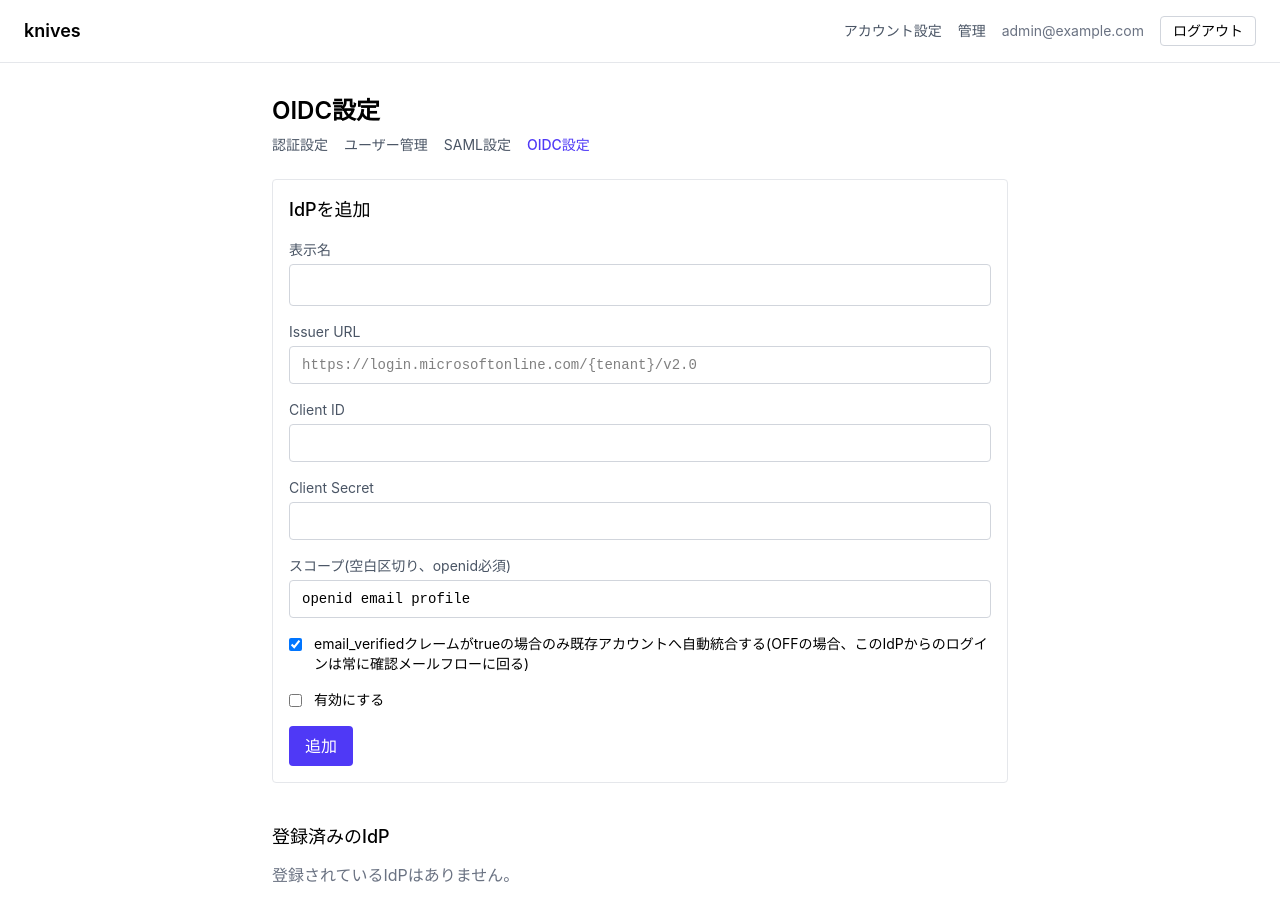
AdminOIDCConfigsPage › submits the add form as a POST including the client secret
Expected: the heading "IdPを追加" is shown, [289,199,371,220]
Step 1. Type "テストIdP" into the field labelled "表示名" → (640, 285), box [289,264,991,306]
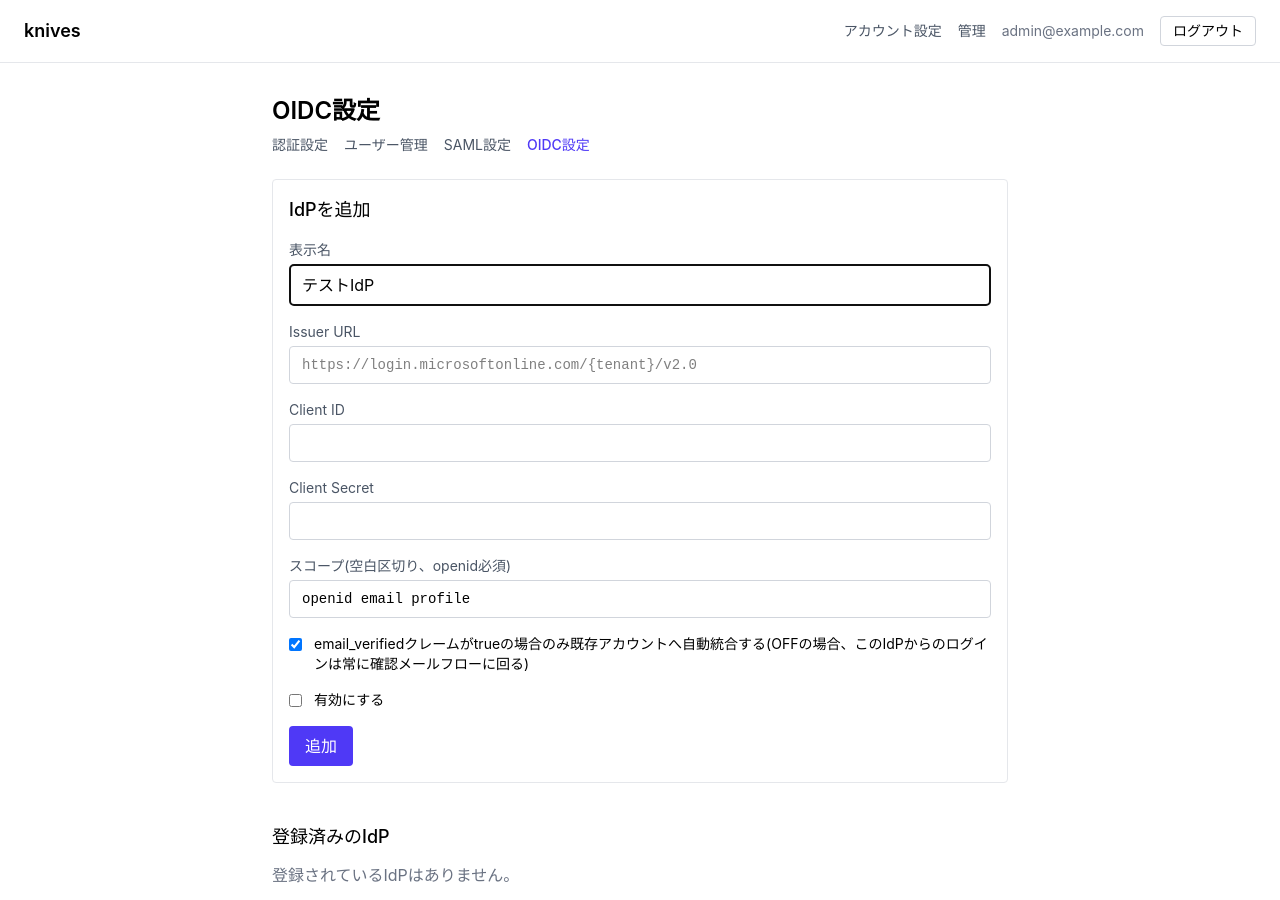
Step 2. Type "https://idp.example.com" into the field labelled "Issuer URL" → (640, 365), box [289,346,991,384]
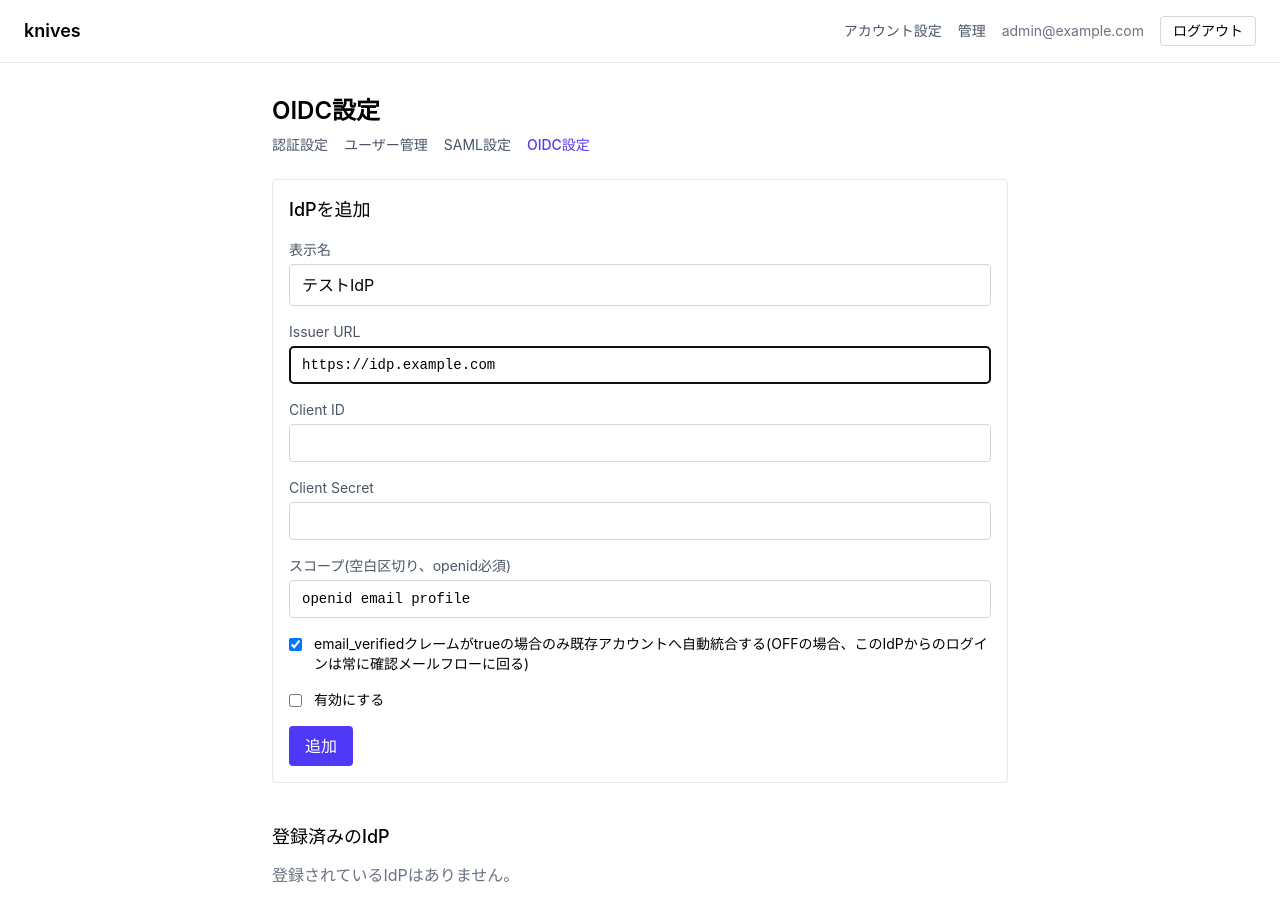
Step 3. Type "test-client" into the field labelled "Client ID" → (640, 443), box [289,424,991,462]
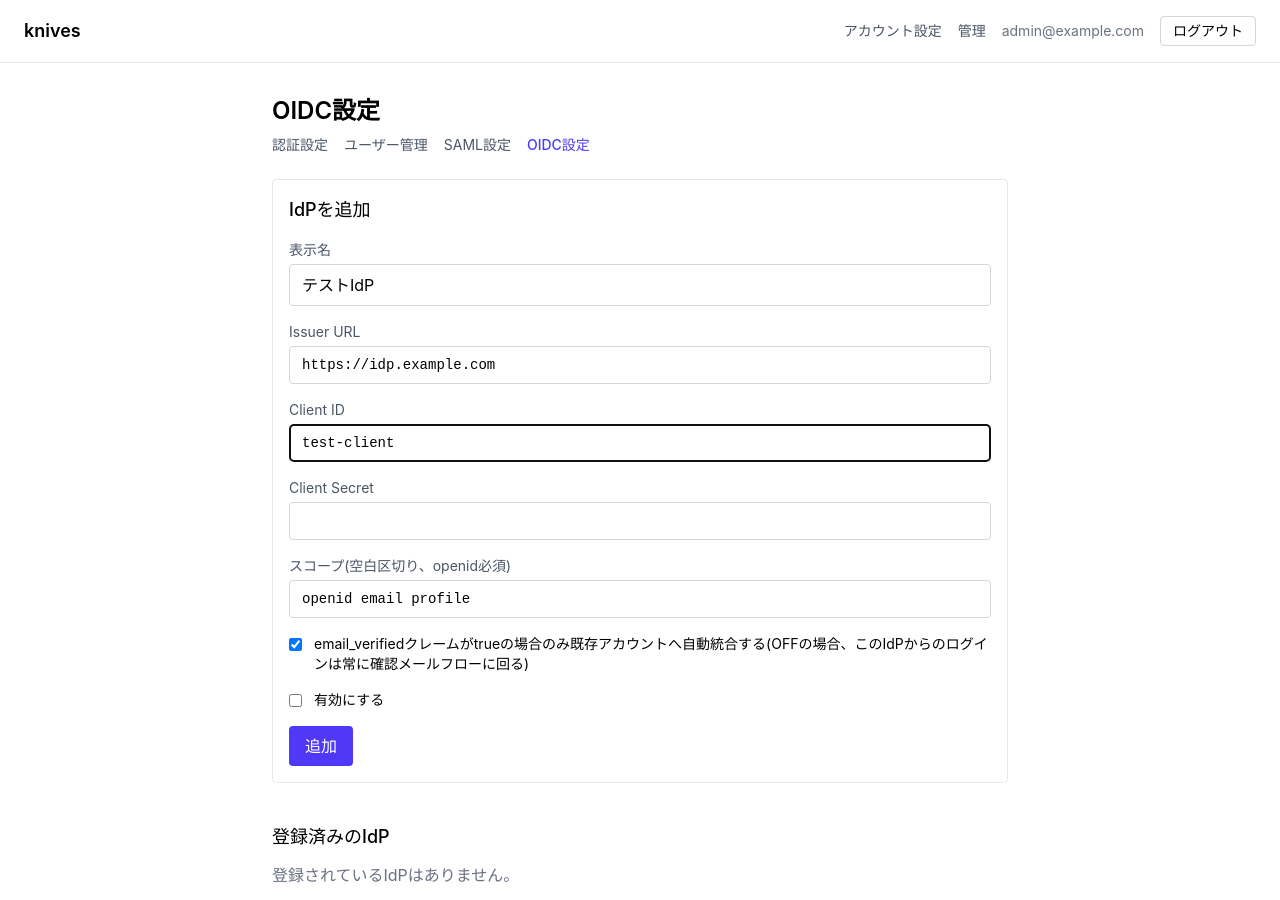
Step 4. Type "test-secret" into the password field labelled "Client Secret" → (640, 521), box [289,502,991,540]
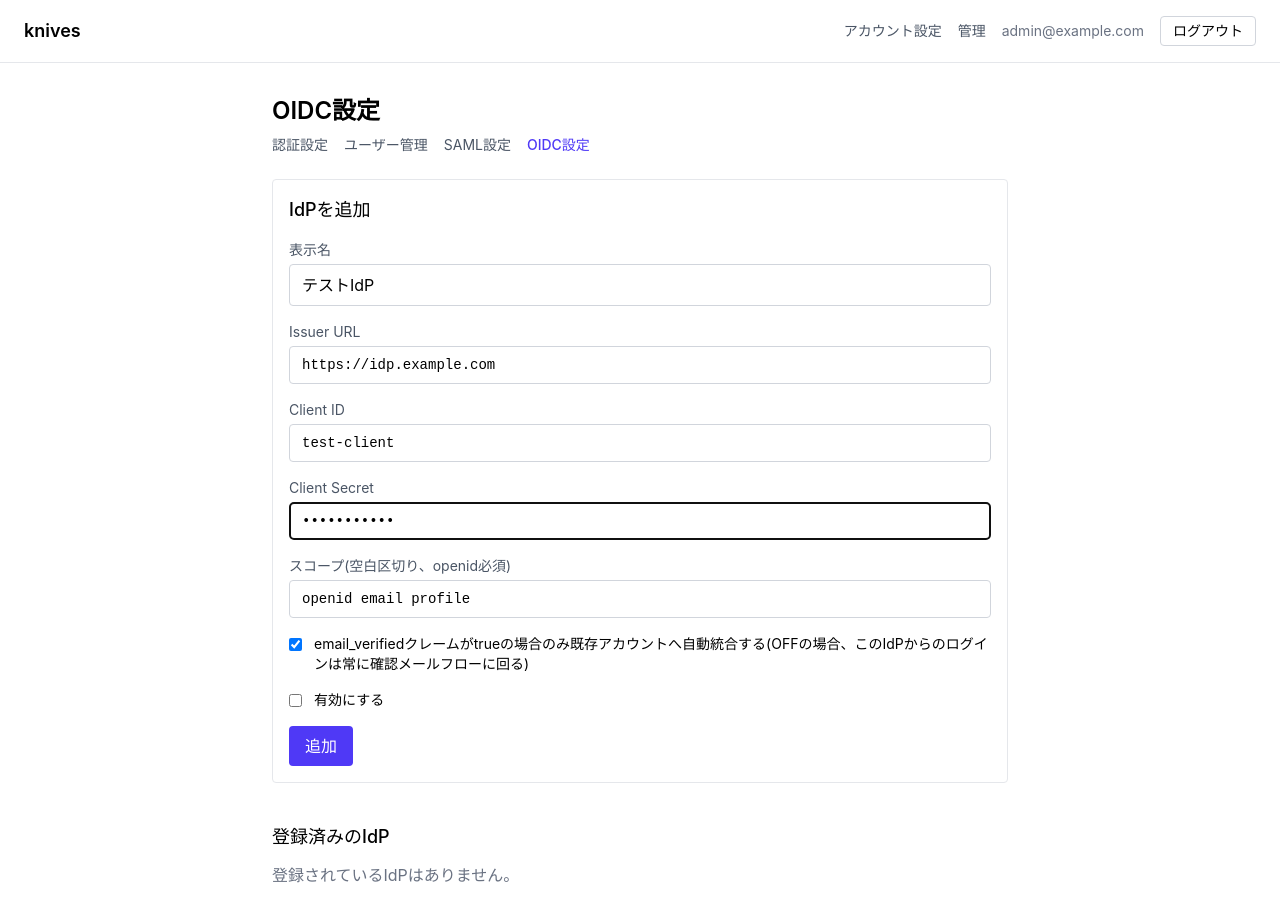
Step 5. Click the button "追加" → (321, 746), box [289,726,353,766]
(page scrolled)
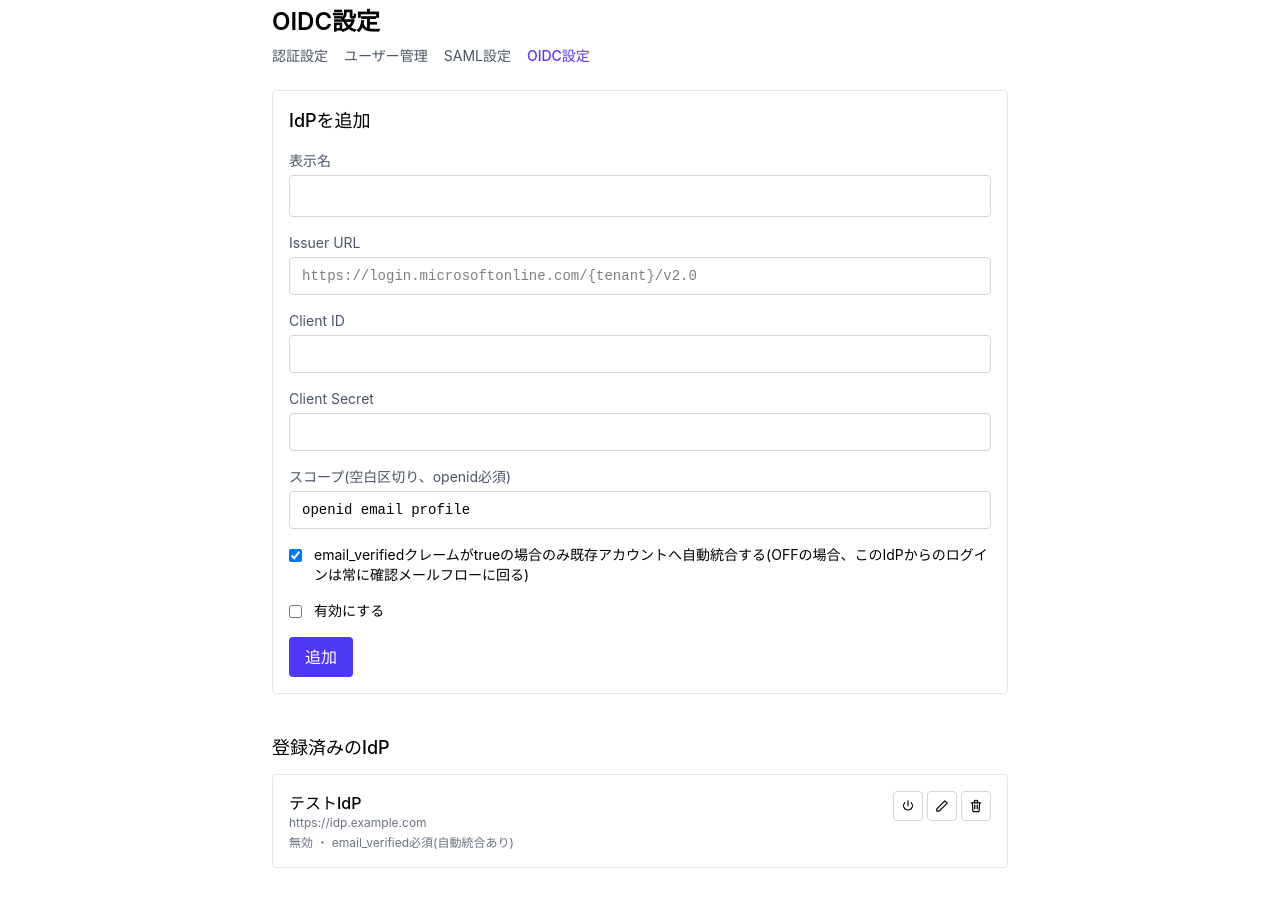
Expected: the text "テストIdP" is shown, [289,793,362,813]
